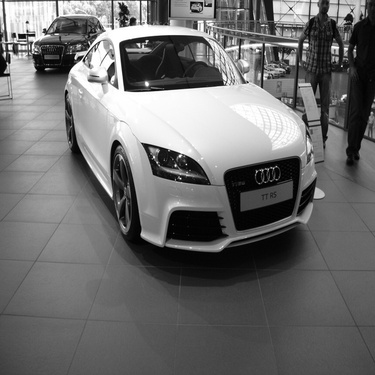car: (35, 17, 330, 268), (29, 10, 113, 77)
